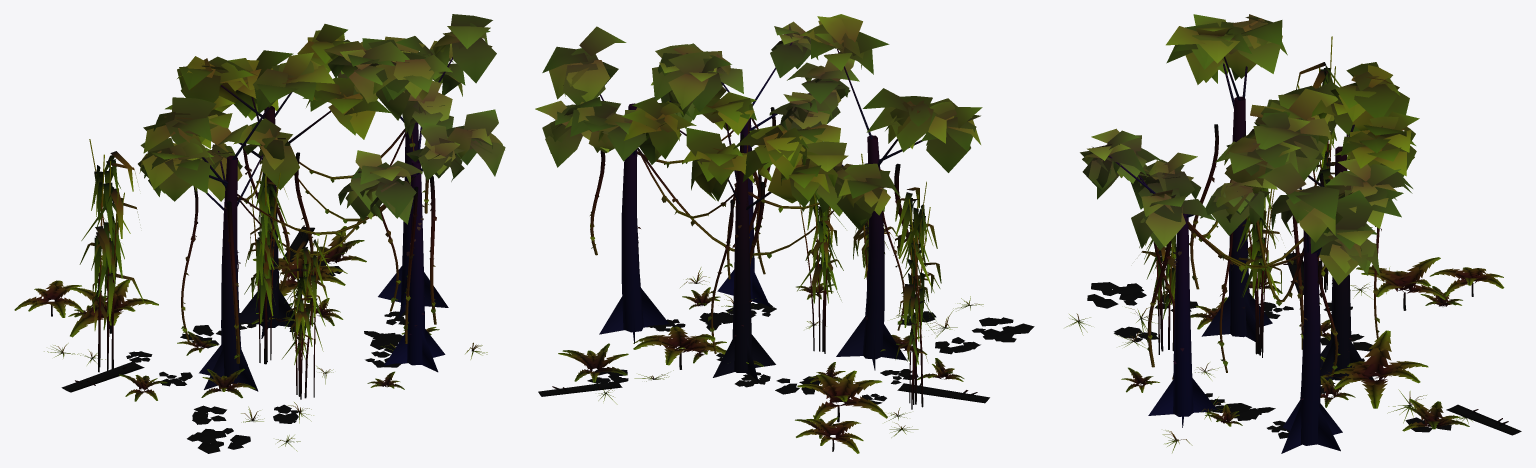
File: patch_understory.glb
The picture shows the model from 3 angles, left to right: view 1: azimuth 30°, elevation 25°; view 2: azimuth 150°, elevation 25°; view 3: azimuth 270°, elevation 25°; orthographic projection. The views are drawn at different scales.
Visible parts, largest first — view 1: patch_understory; view 2: patch_understory; view 3: patch_understory.
Part boxes in pixels (x1=…): patch_understory: x1=14, y1=14, x2=505, y2=453; patch_understory: x1=535, y1=14, x2=1034, y2=453; patch_understory: x1=1065, y1=14, x2=1521, y2=453.
Size of the model in its own units: 19.01 by 13.79 by 16.46.
Materials: 1 (1 with a texture image).
